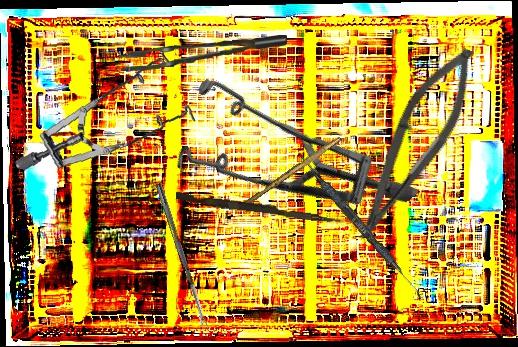Micro Scissor: (343, 35, 490, 255)
Pusher: (174, 191, 342, 225)
Scalpel Handle: (240, 133, 342, 211)
Spatula Surgical: (292, 151, 428, 300)
Speculum: (145, 18, 421, 300), (13, 38, 202, 187)
Surgical Spoon: (154, 182, 209, 331)
Tissue Forceps: (118, 34, 288, 72)
